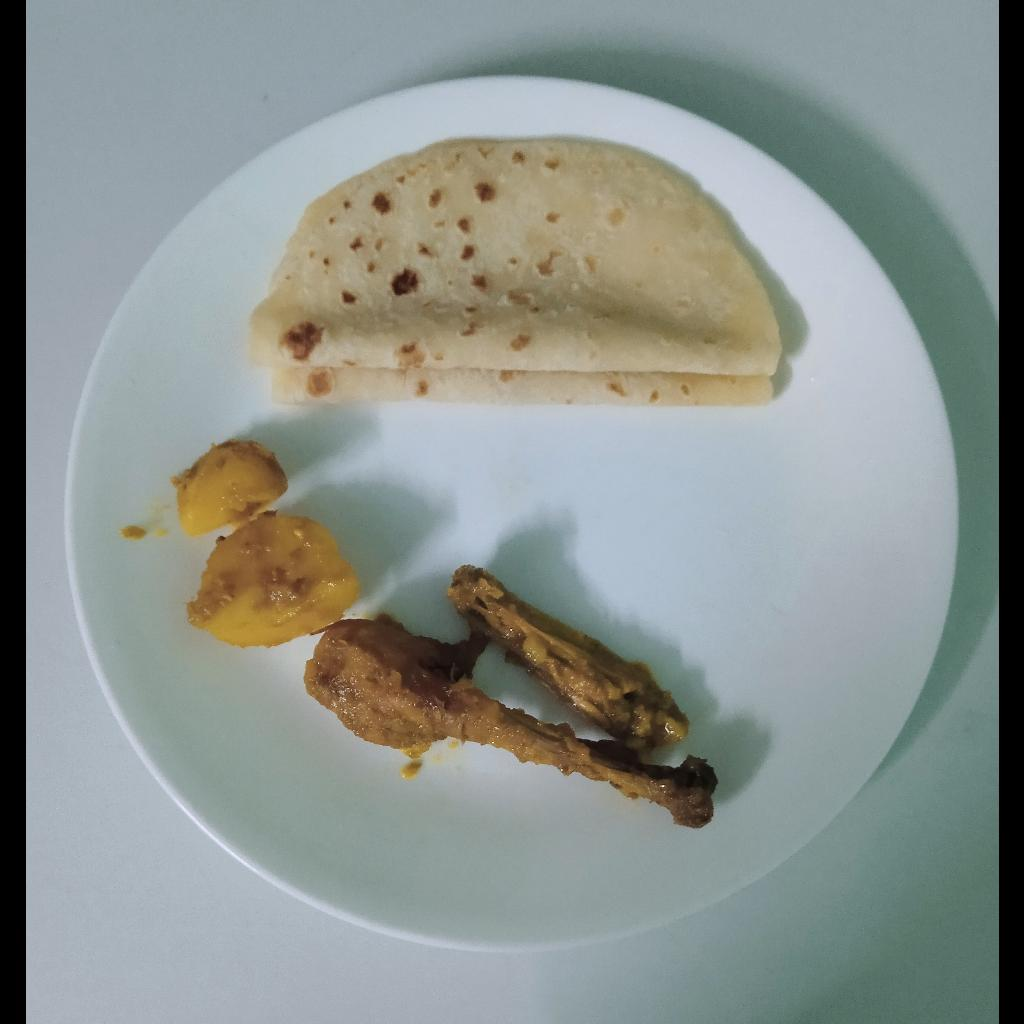chicken: (310, 568, 707, 818)
potato: (174, 443, 362, 651)
ruti: (247, 140, 781, 410)
